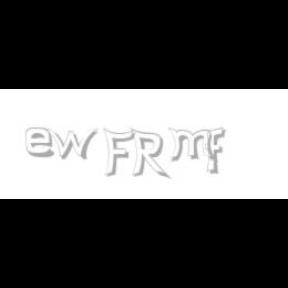F: (103, 128, 135, 178)
R: (129, 128, 167, 180)
e: (26, 128, 58, 158)
f: (205, 128, 229, 174)
m: (167, 128, 219, 162)
w: (44, 128, 102, 160)
